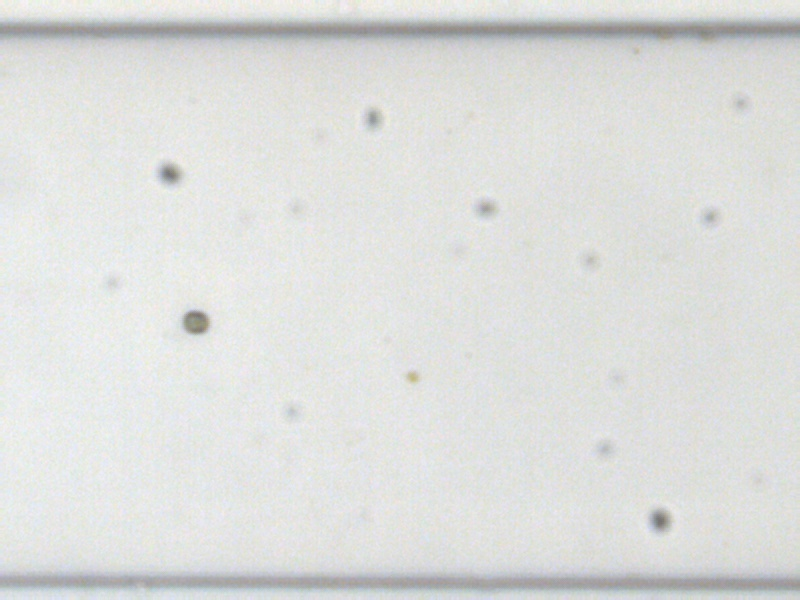Chlorella: (403, 368, 420, 385)
Effrenium: (179, 309, 212, 336)
